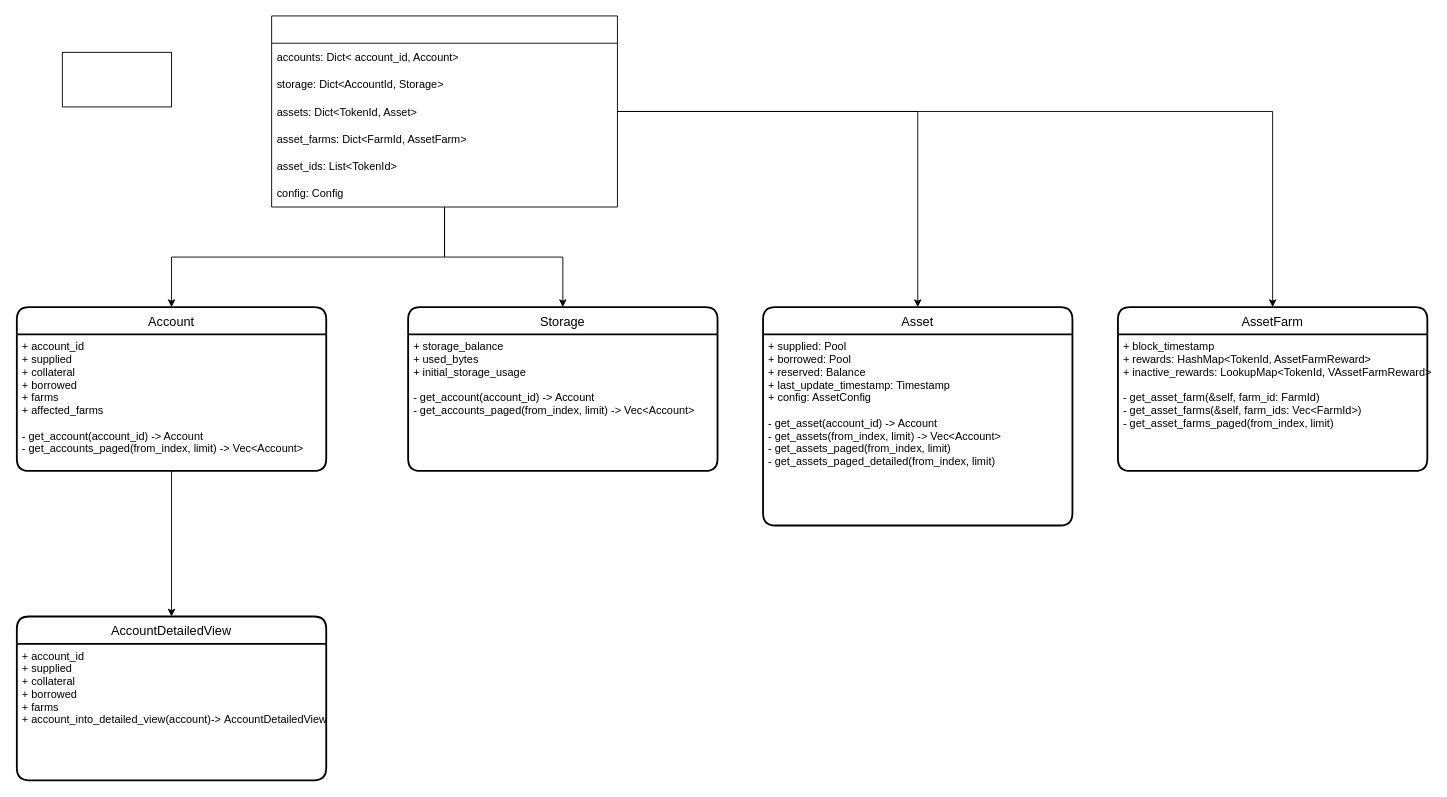
This 1447x797 diagram has some shape labels left out. Here are the shapes that lost their labels. From the top down, the box of each, then its label:
(61, 51, 172, 107): Enum: StorageKey
(271, 15, 617, 207): Main contract
